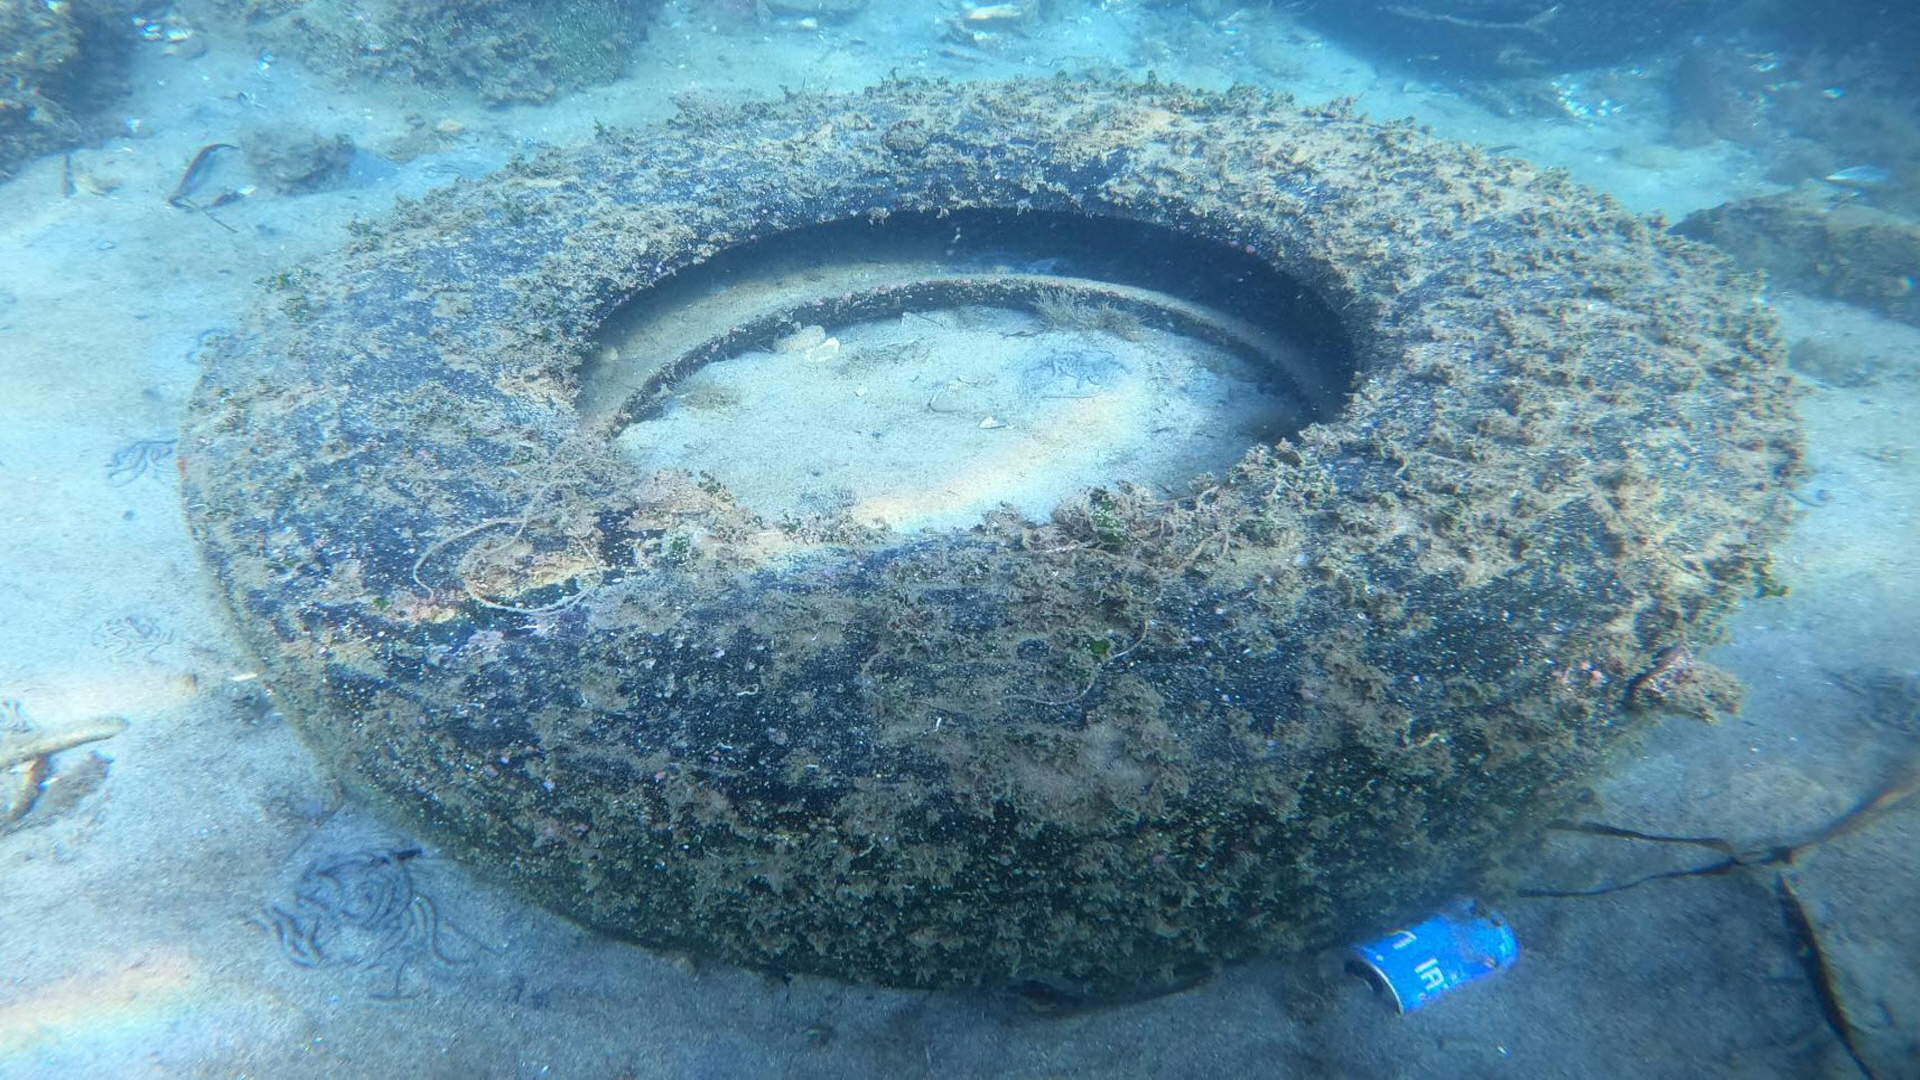tire: (173, 70, 1796, 996)
